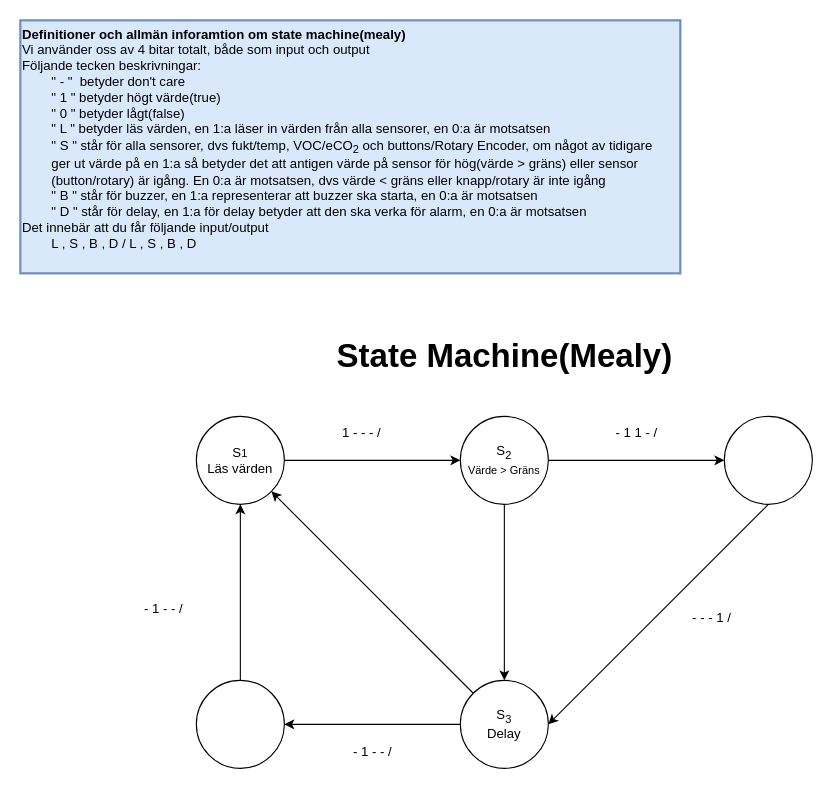
The diagram is 832 pixels wide and 788 high, and some of its shapes have lost their labels. The shapes that lost their labels are listed below. From the top down, each one's centre as x and y in pixels, then its label:
At (767,459): "S 4 Buzzer".
At (239,723): "S 5 Button".
